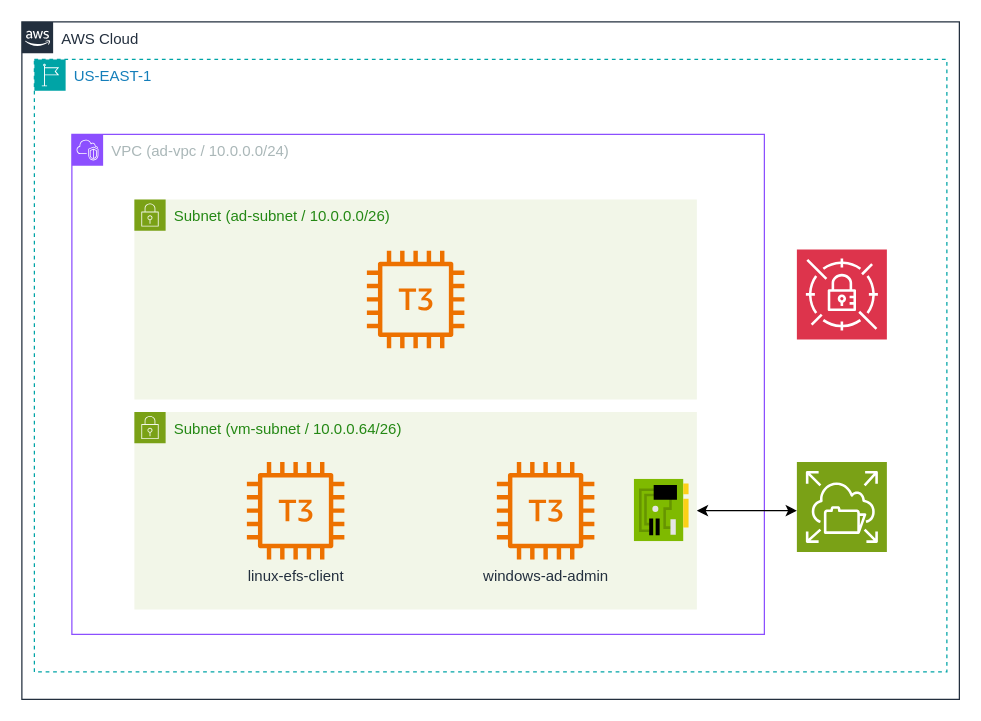
The diagram is 981 pixels wide and 721 high, and some of its shapes have lost their labels. Each missing label, with the centre of its shape:
"efs instance" goes at point (841, 506).
"mcloud.mikecloud.com mini-ad-dc-mcloud" goes at point (415, 299).
"Secrets" goes at point (841, 293).
